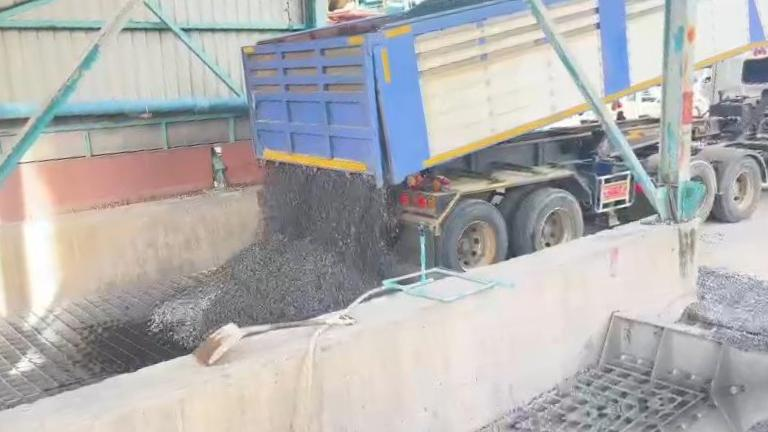gravel: (150, 164, 398, 347), (691, 266, 768, 361), (401, 0, 516, 18)
